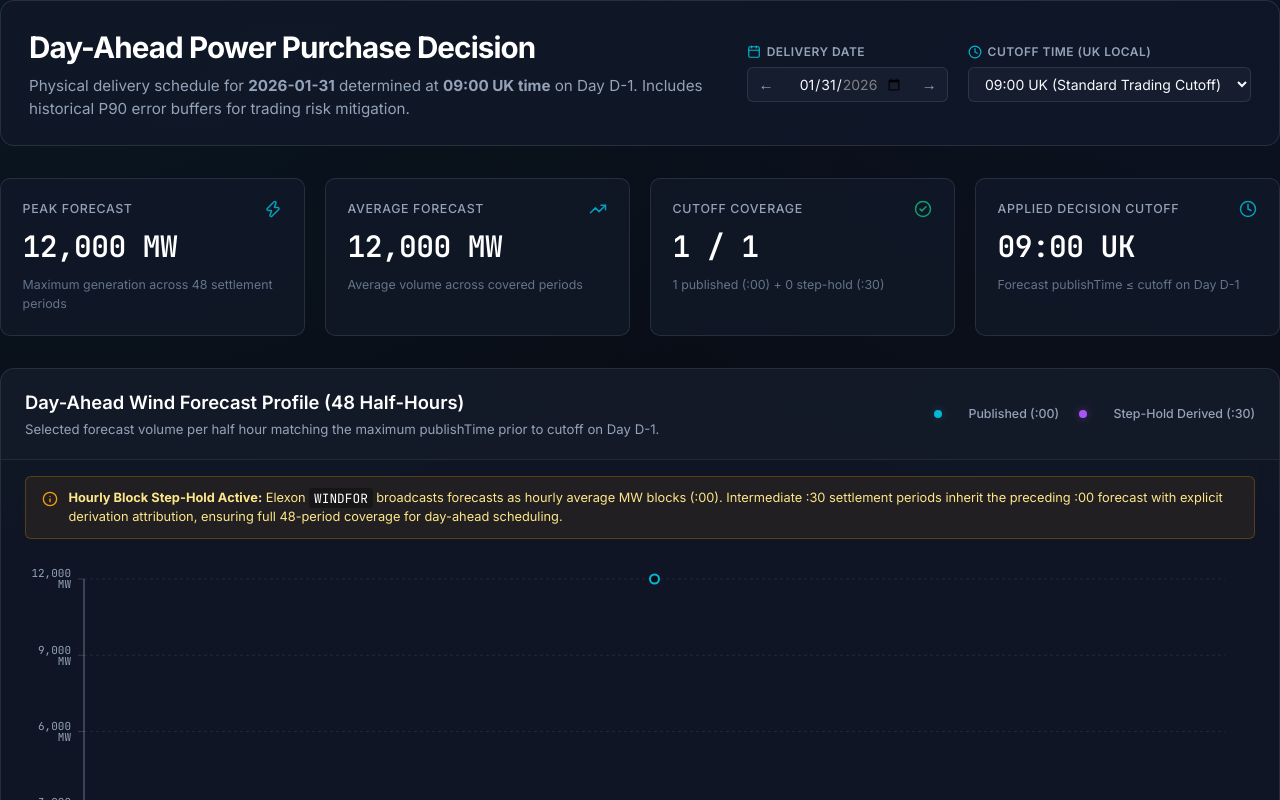
Scenario: DecisionPage component states › steps across a month boundary using Date.UTC calendar arithmetic
Check: the date field labelled "Delivery Date" holds "2026-01-31", box [784, 68, 911, 101]
Note: Click "Next Day" button to step across month boundary from Jan 31 to Feb 1
What coordinates should you click on to do the following:
click the button named "Next Day"
I would click on:
 (929, 85)
Its box is [911, 69, 947, 100].
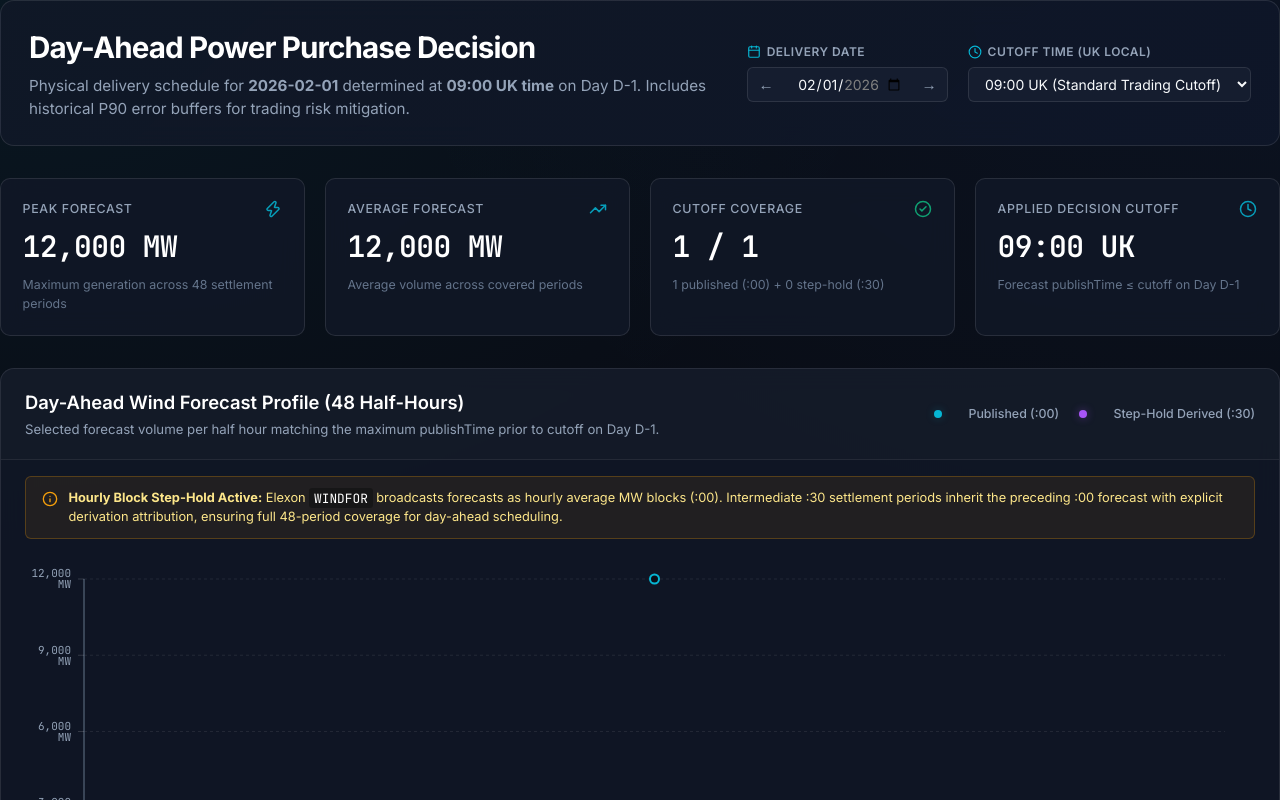
Check: the date field labelled "Delivery Date" holds "2026-02-01", box [784, 68, 911, 101]
Note: Click "Previous Day" button to step backward across month boundary from Feb 1 to Jan 31
What coordinates should you click on to do the following:
click the button named "Previous Day"
I would click on:
 (766, 85)
Its box is [748, 69, 784, 100].
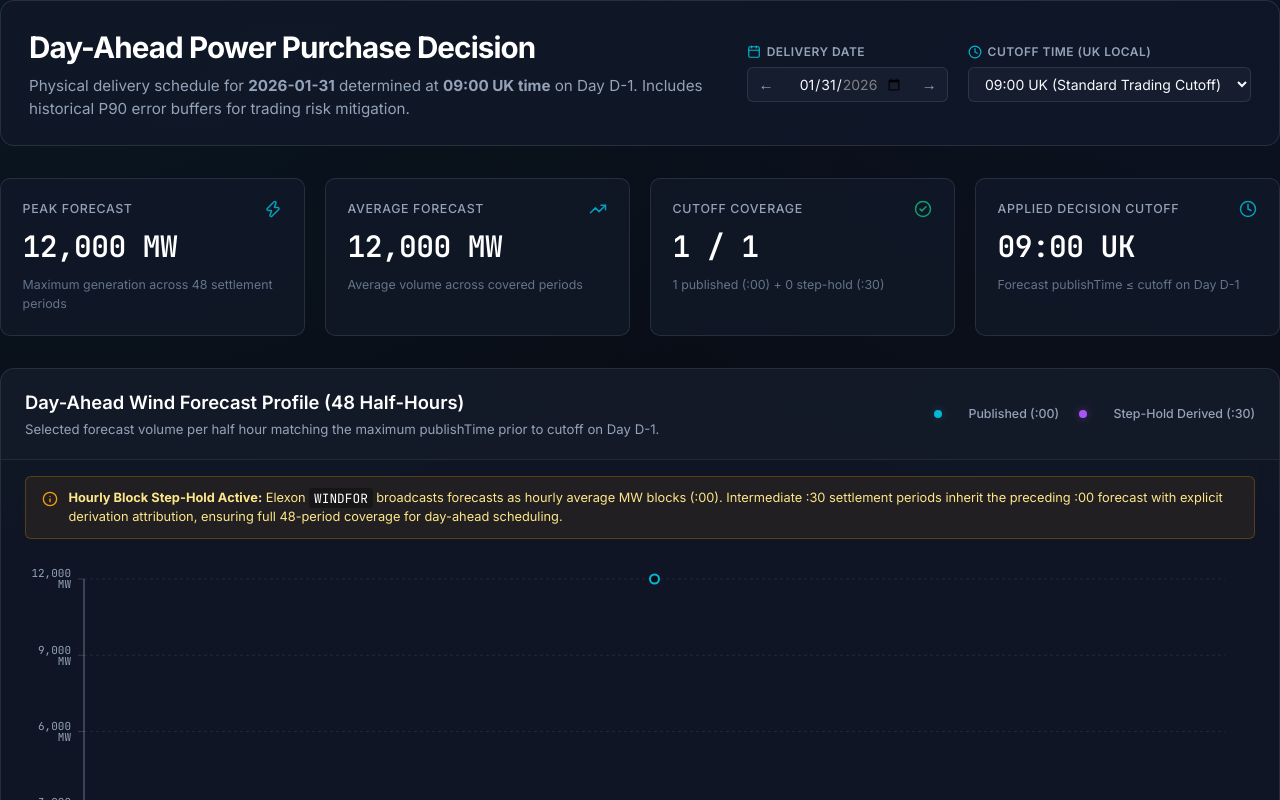
Check: the date field labelled "Delivery Date" holds "2026-01-31", box [784, 68, 911, 101]
